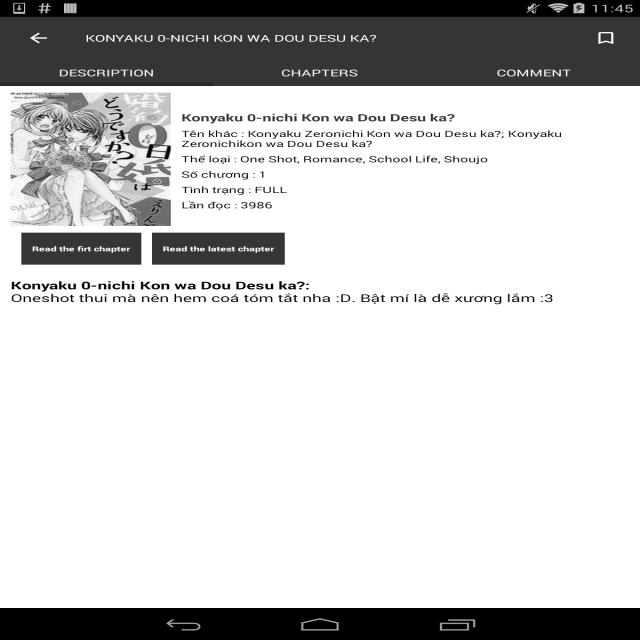Button: (152, 232, 285, 264), (22, 232, 142, 264)
ImageButton: (9, 17, 68, 59)
ImageView: (11, 93, 170, 226), (593, 30, 619, 46)
TextView: (85, 17, 555, 59), (11, 278, 629, 305), (182, 128, 630, 150), (181, 153, 488, 165), (181, 111, 455, 124), (181, 183, 287, 196), (59, 66, 154, 79), (182, 199, 272, 211), (181, 168, 267, 180), (281, 66, 358, 79), (496, 66, 571, 79)
